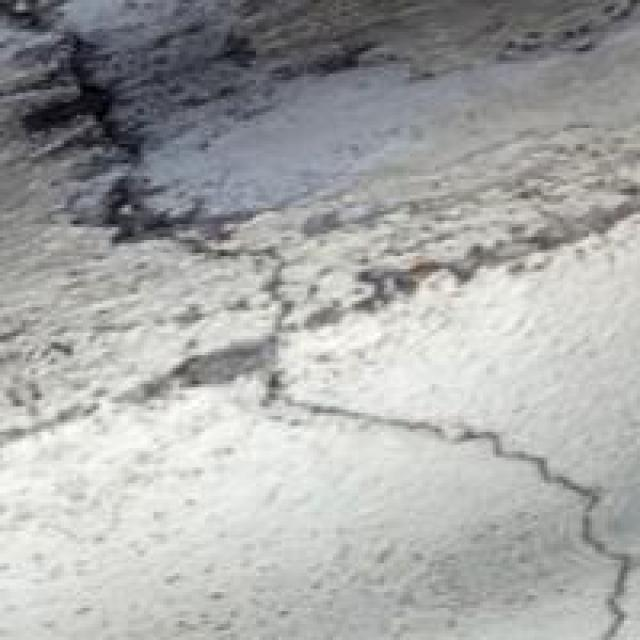Crack: (262, 387, 636, 637)
